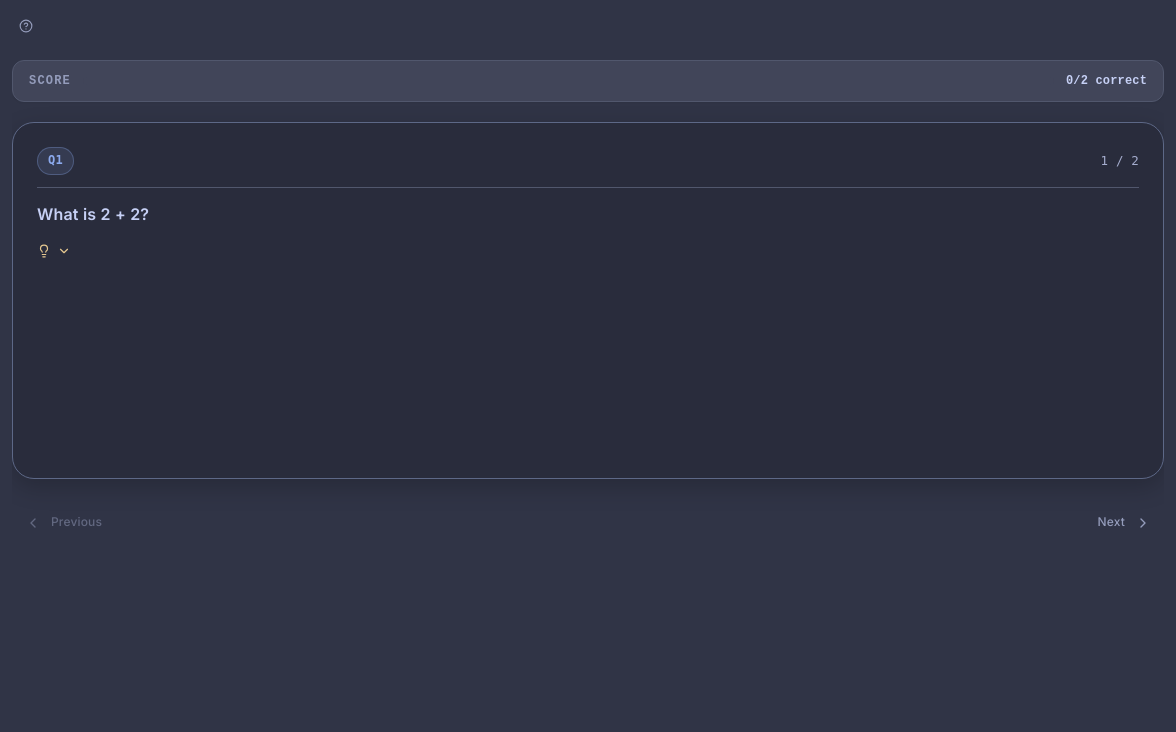
Test: Quiz Section › renders hint when present
Click the button named "Toggle hint". click: (44, 250)
box: [37,244,1139,258]
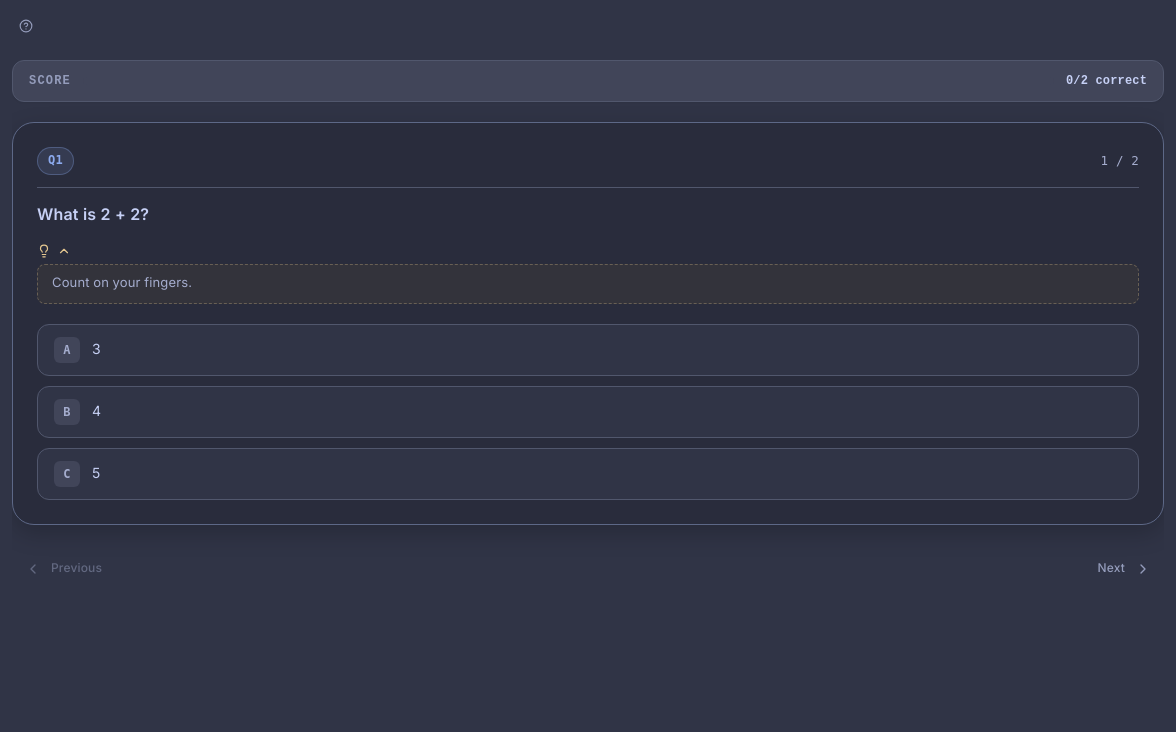
Expected: the element with test id "quiz-hint-0" reads "Count on your fingers.", [52,272,192,294]
